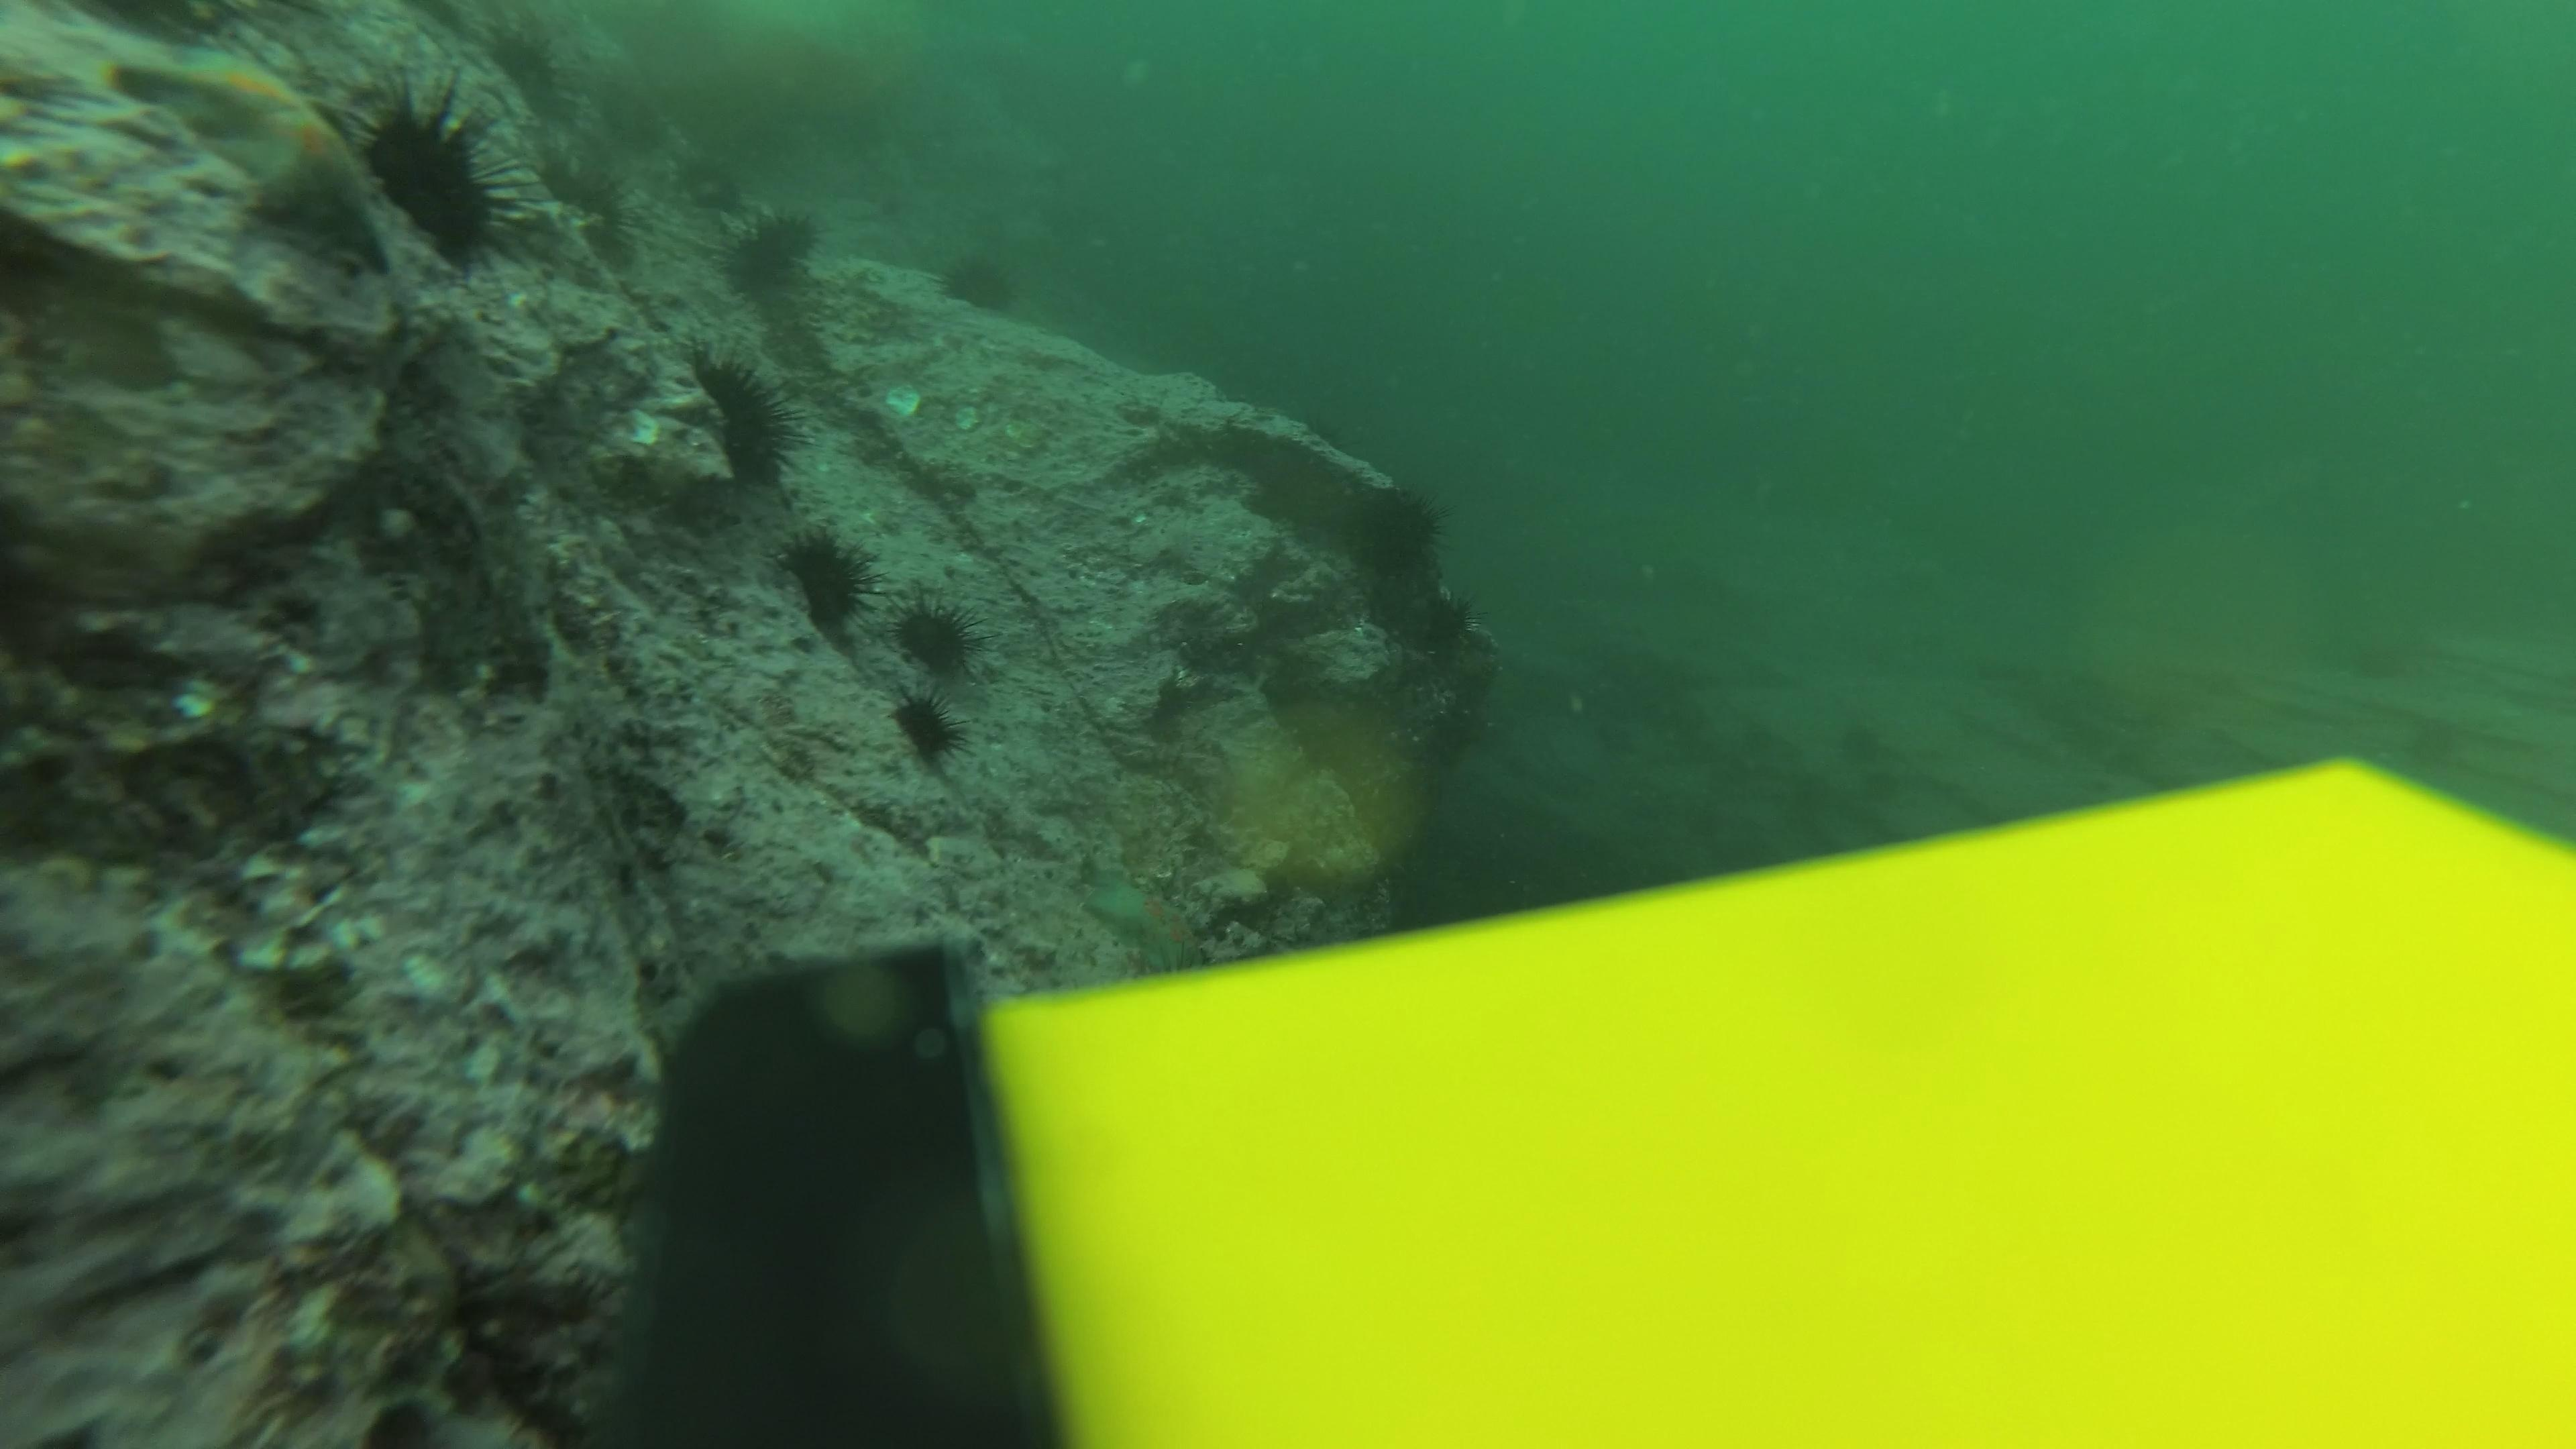echinus: (347, 73, 536, 274), (663, 345, 807, 494), (770, 524, 879, 639), (1336, 476, 1451, 584), (717, 202, 824, 295), (888, 593, 989, 681), (885, 688, 968, 768), (934, 244, 1021, 317), (1399, 586, 1481, 660), (674, 150, 750, 218)
starfish: (101, 39, 402, 265), (1076, 855, 1217, 968)
